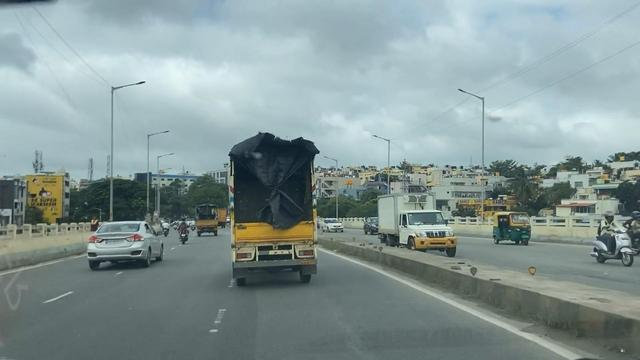HMV: (224, 132, 325, 292), (374, 189, 460, 257)
